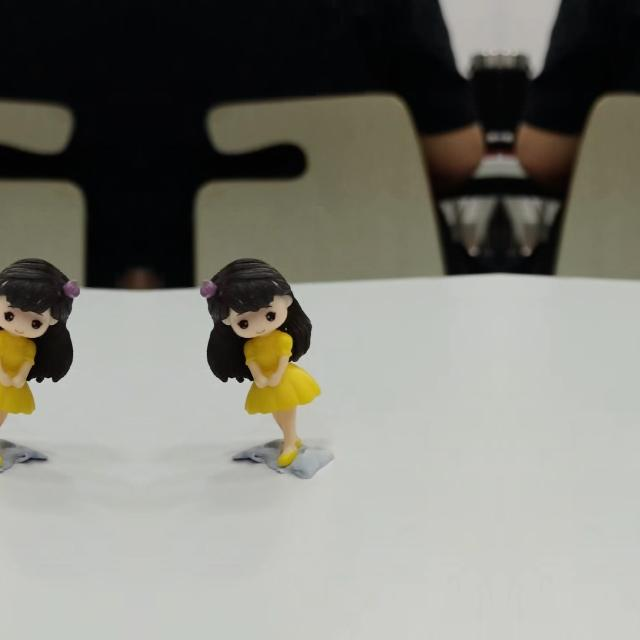woman head: (200, 250, 298, 342), (0, 250, 80, 341)
